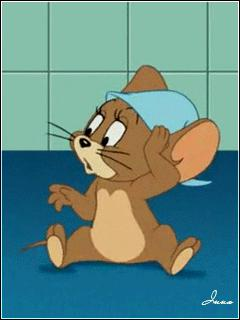jerry: (19, 64, 222, 277)
